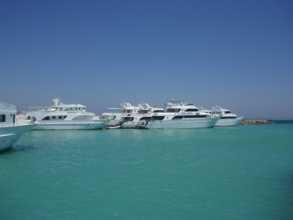yacht: (163, 100, 209, 129), (42, 108, 103, 129), (207, 104, 243, 126)
